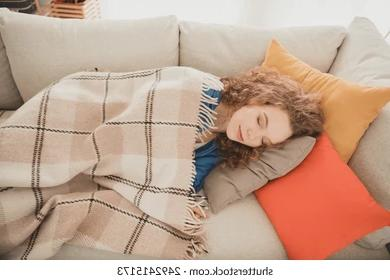blanket: (0, 66, 223, 260)
